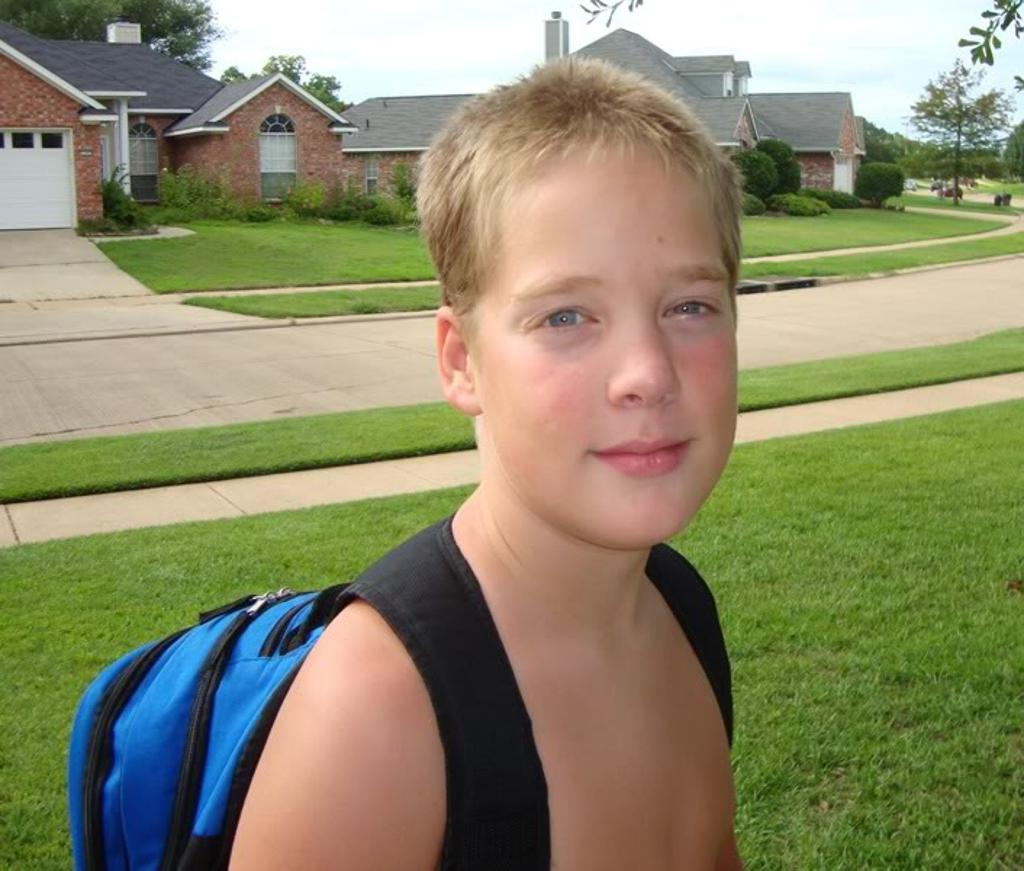face: (488, 166, 738, 542)
